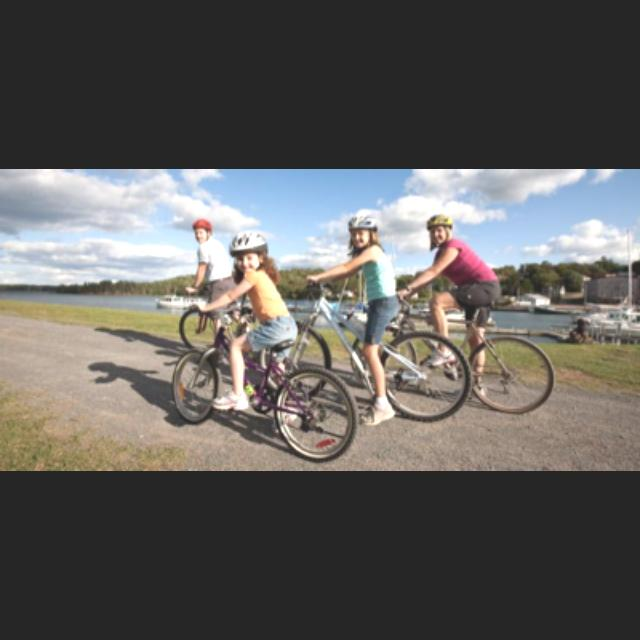With Helmet: (224, 228, 268, 274), (342, 211, 384, 251), (421, 209, 455, 247), (186, 216, 216, 246)
